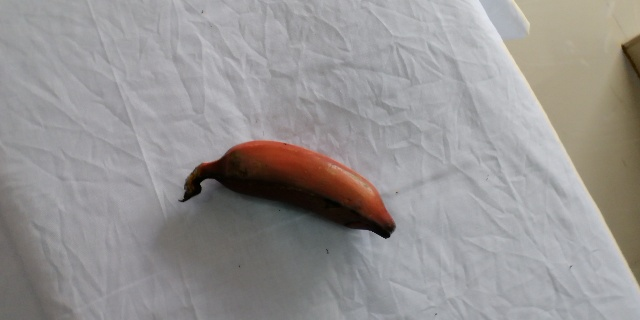banana_red: (180, 138, 400, 243)
